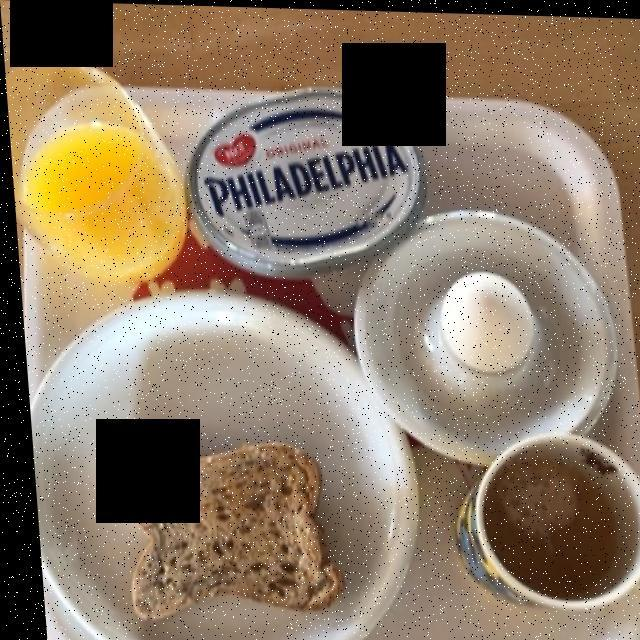bread: (106, 443, 329, 618)
coffee: (480, 454, 613, 595)
egg: (428, 270, 525, 356)
juice: (23, 81, 173, 279)
